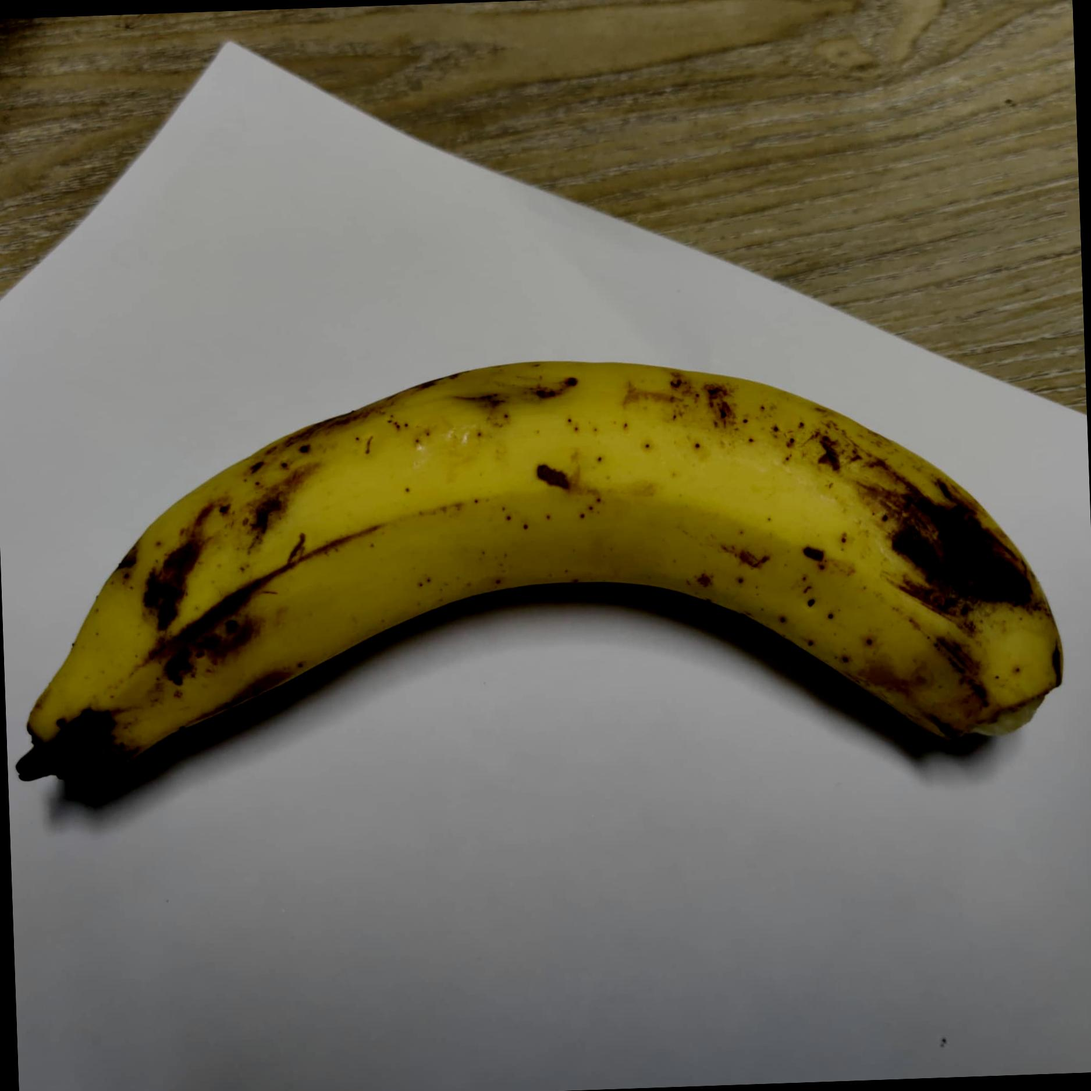Banana Ripe: (74, 293, 1072, 863)
